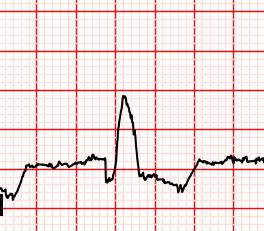Pathological Q Wave: (85, 151, 127, 187)
